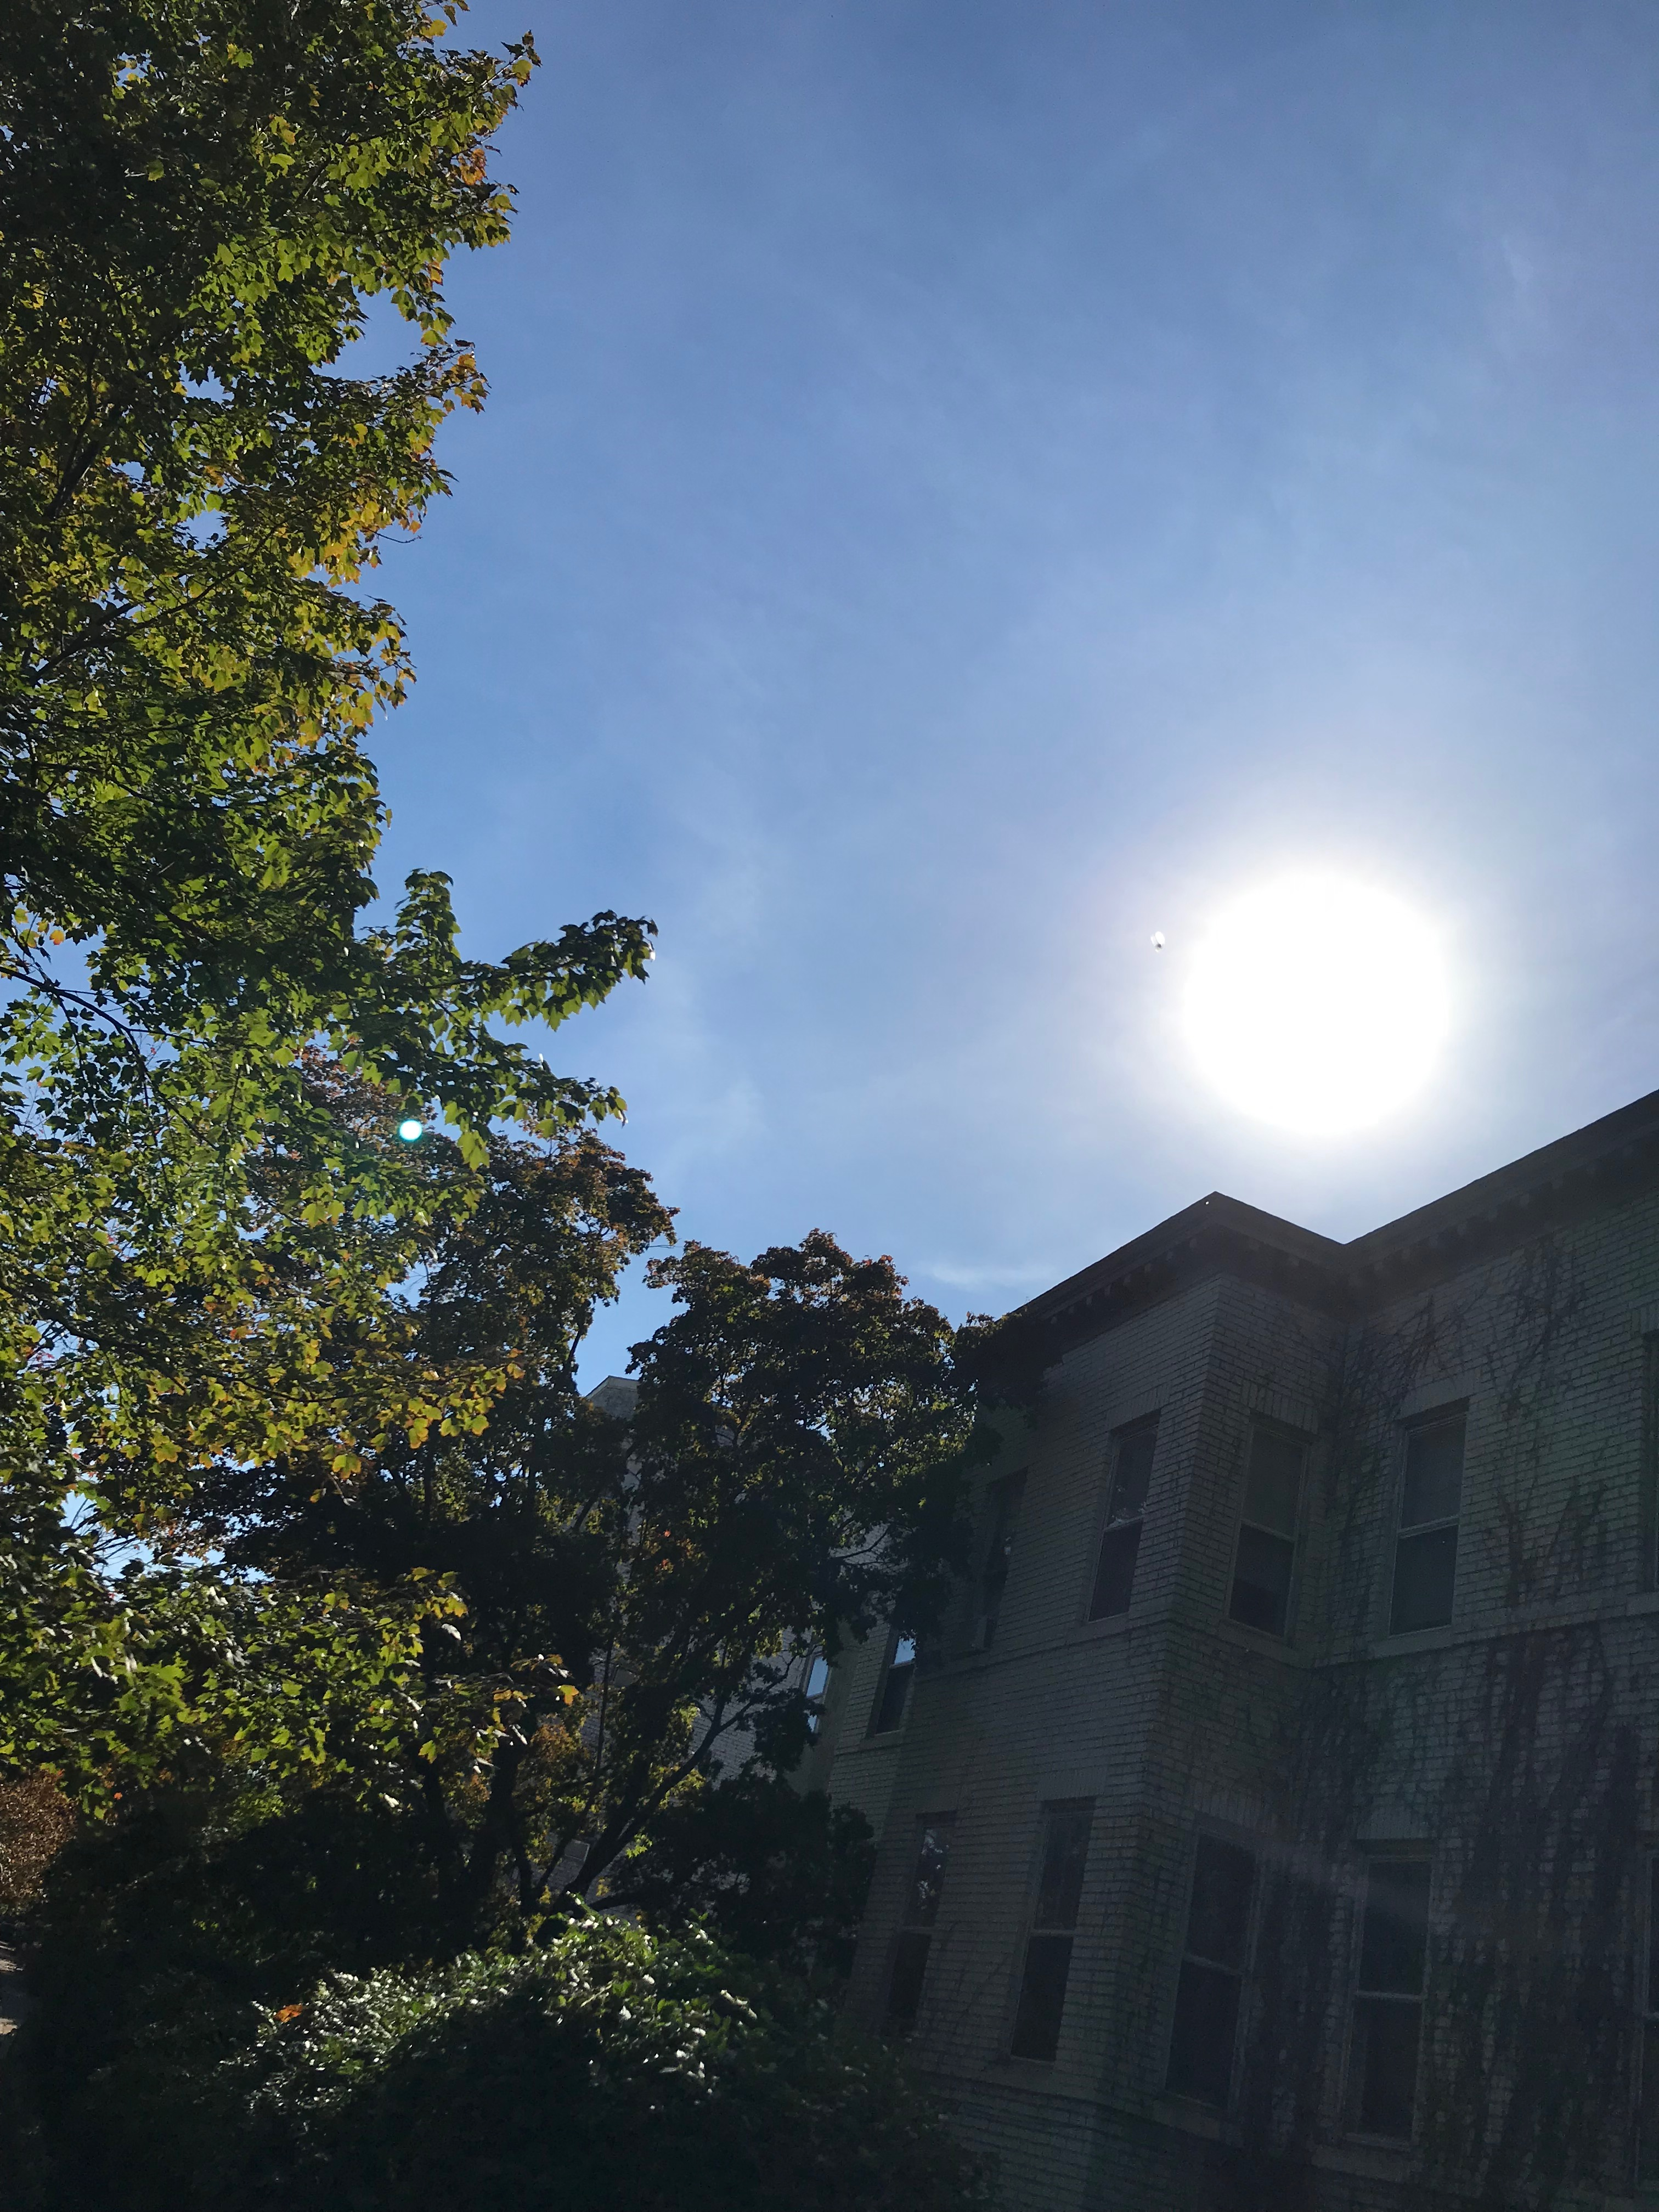flare: (397, 1118, 425, 1143)
